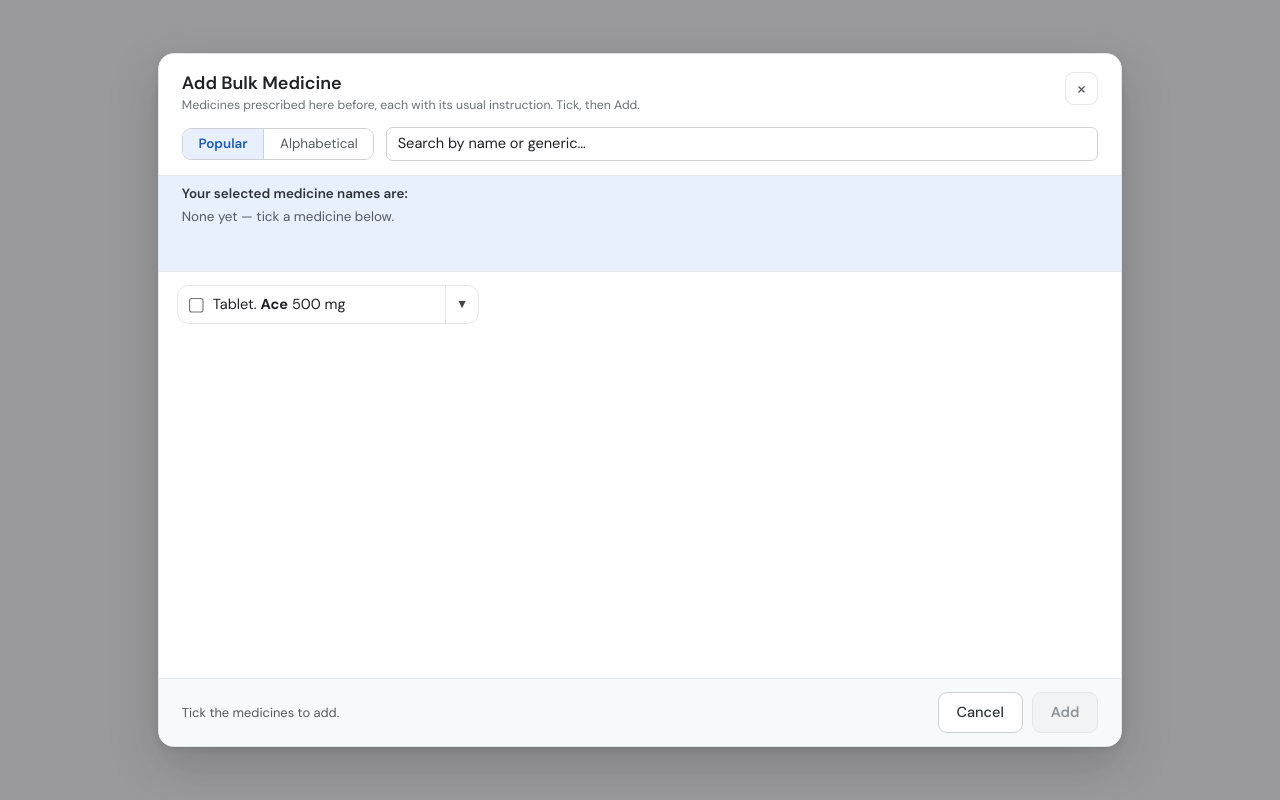
Test: BulkMedicineModal › ⚕️ a medicine saved with nothing beside it says so in its ▼, and is not given a dose
The image size is (1280, 800).
What coordinates should you click on to do the following:
click the button named "Last instructions for Tablet. Ace 500 mg"
I would click on:
 (462, 305)
Its box is 445,286 -> 479,323.
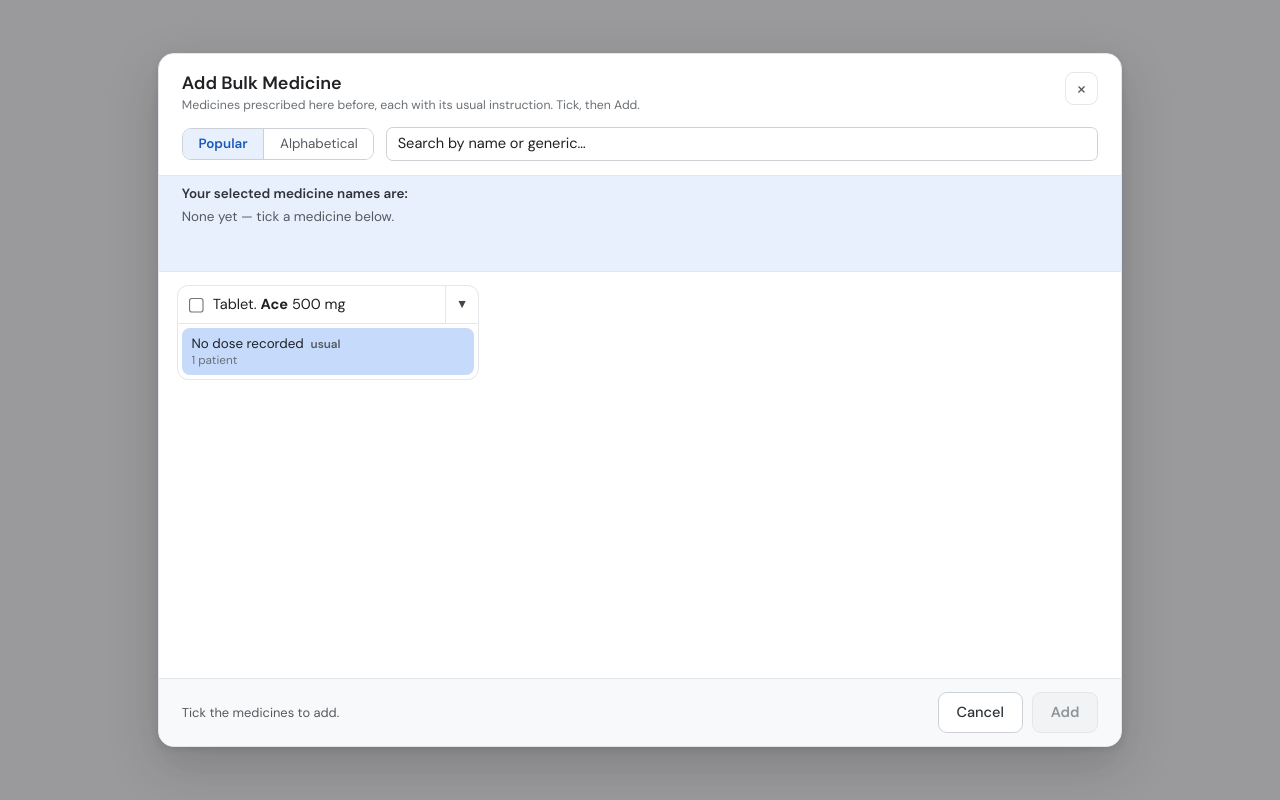
Now the option shows "No dose recorded", box 183,329 -> 474,375
